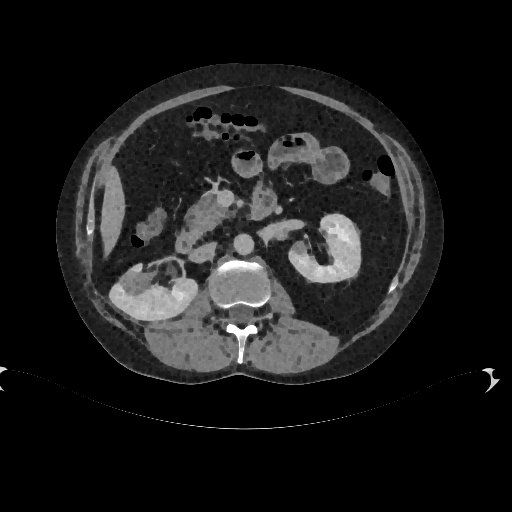Lesion: (118, 267, 158, 296)
